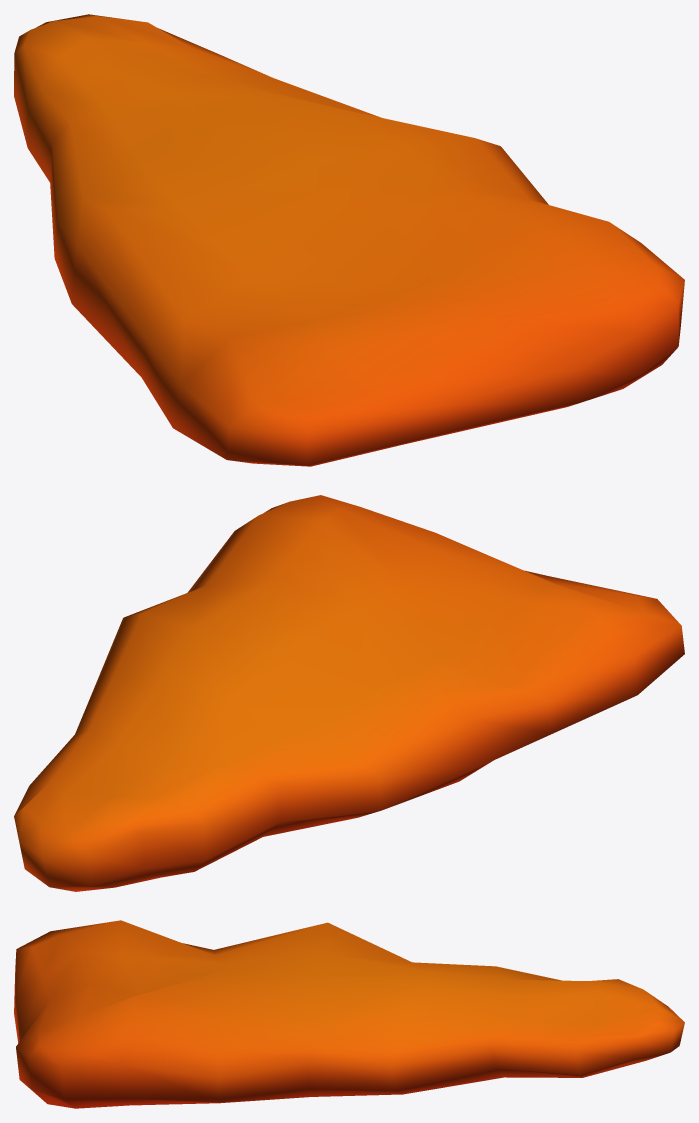
Rendered from Fish.fbx.
The picture shows the model from 3 angles, top to bottom: view 1: azimuth 30°, elevation 25°; view 2: azimuth 150°, elevation 25°; view 3: azimuth 270°, elevation 25°; orthographic projection. The views are drawn at different scales.
Parts seen in each view (by area): view 1: fish; view 2: fish; view 3: fish.
Part boxes in pixels (<box>): fish: <box>14,14,684,466</box>; fish: <box>14,495,684,891</box>; fish: <box>14,920,684,1108</box>.
Bounding box in the file's own units: 9.13 × 2.72 × 16.45.
Materials: 1 (1 with a texture image).
